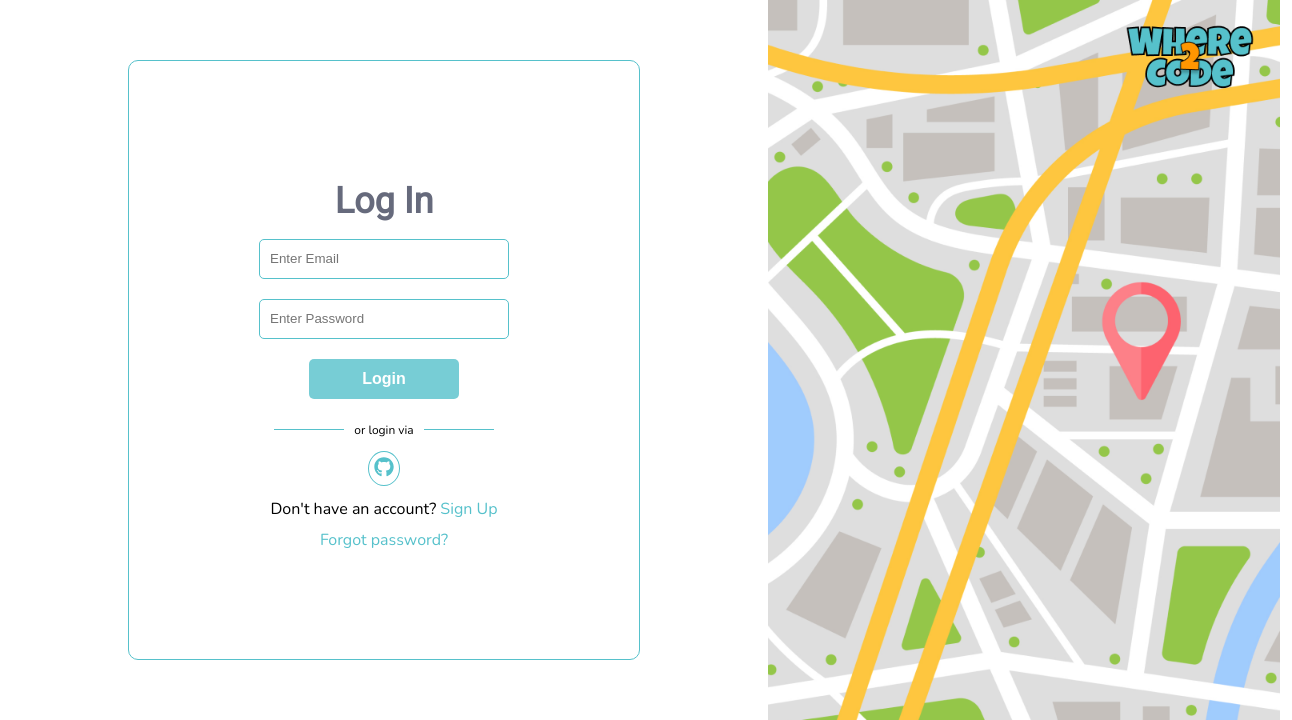
Test: Login tests › display an error message if validation don't pass › test email validation
Type "a@a" into the field with placeholder "Enter Email". click: (384, 258)
box: left=259, top=238, right=509, bottom=278
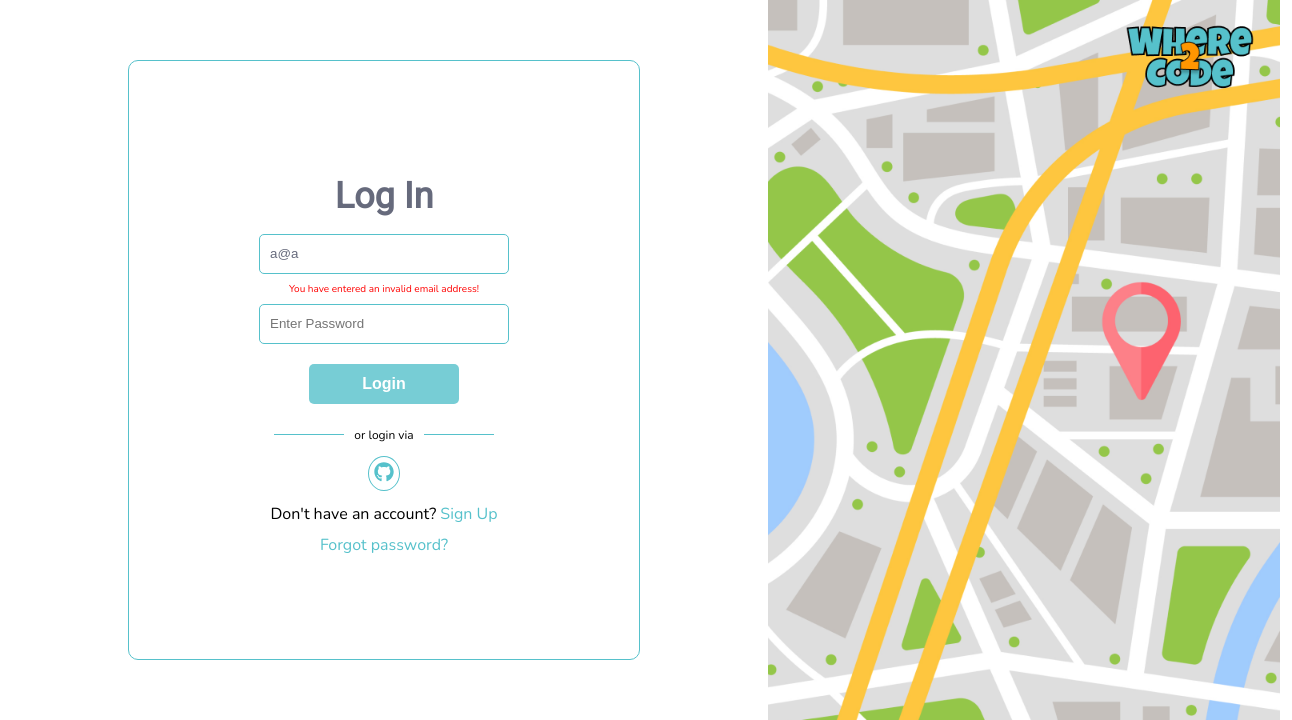
Result: the text "You have entered an invalid email address!" is shown at left=289, top=284, right=479, bottom=294
